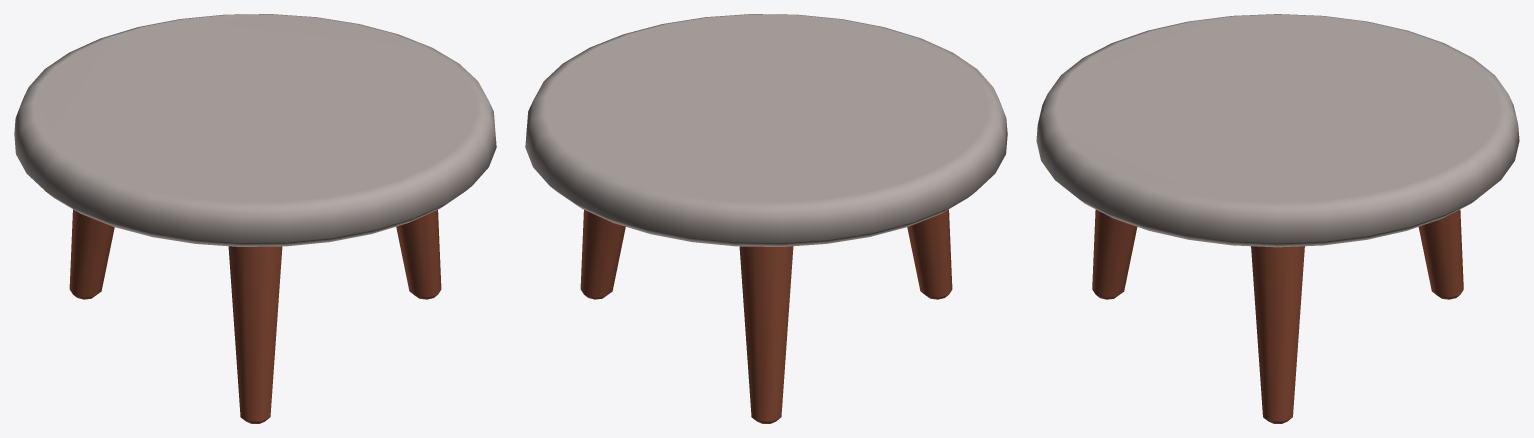
Rendered from Coffee_Table_03.glb.
The picture shows the model from 3 angles, left to right: view 1: azimuth 30°, elevation 25°; view 2: azimuth 150°, elevation 25°; view 3: azimuth 270°, elevation 25°; orthographic projection.
Parts seen in each view (by area): view 1: Coffee_Table_03; view 2: Coffee_Table_03; view 3: Coffee_Table_03.
Part boxes in pixels (left/top/right/bottom): Coffee_Table_03: left=14, top=14, right=496, bottom=423; Coffee_Table_03: left=525, top=14, right=1007, bottom=423; Coffee_Table_03: left=1036, top=14, right=1519, bottom=423.
Bounding box in the file's own units: 0.8041 × 0.4233 × 0.8041.
1 material, 1 textured.
